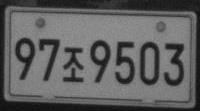0: (138, 40, 160, 85)
3: (163, 42, 184, 86)
5: (113, 40, 135, 85)
7: (38, 37, 60, 81)
9: (13, 36, 36, 80), (89, 38, 111, 83)
조: (62, 46, 83, 82)
